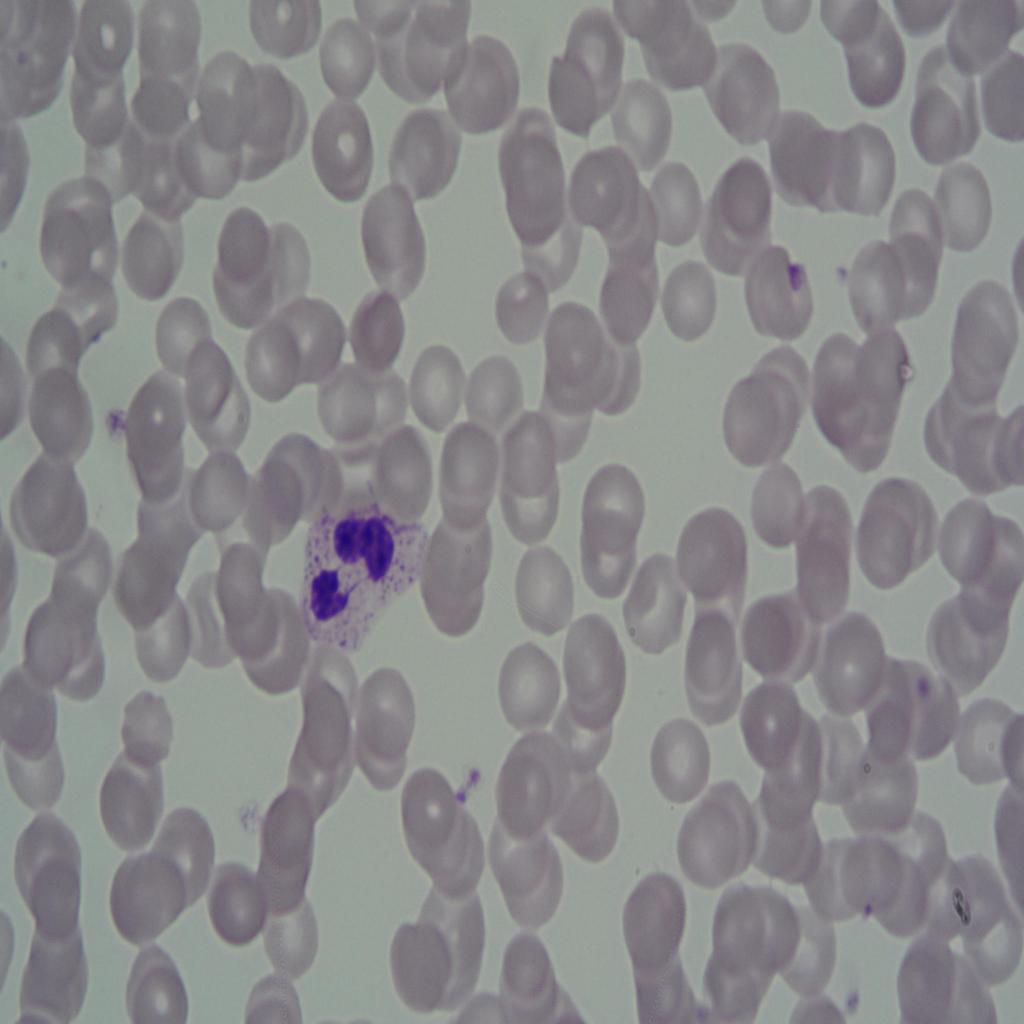Neutrofil: (301, 496, 441, 650)
Platelet: (94, 402, 141, 458), (822, 242, 864, 304), (912, 649, 940, 717), (778, 257, 812, 298)
